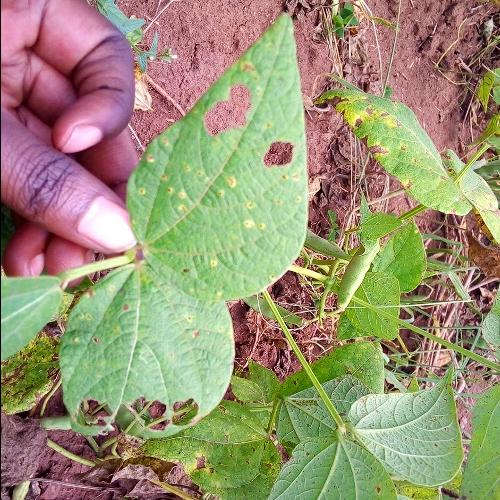mozaik: (123, 18, 307, 299), (59, 266, 234, 447)
